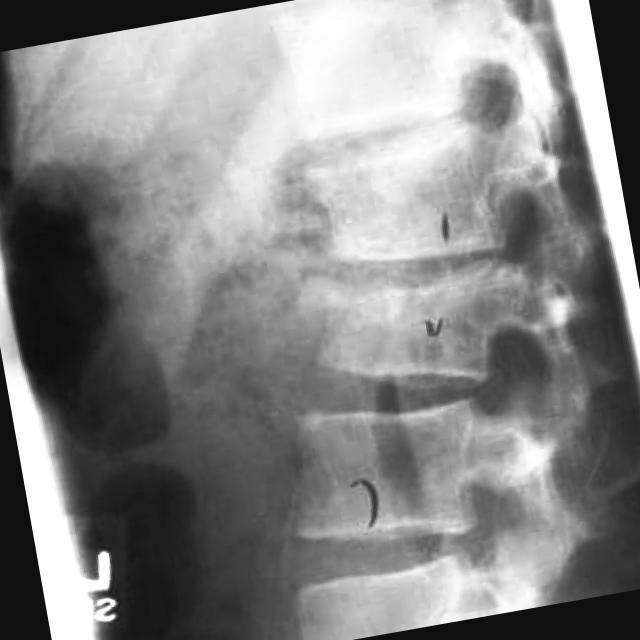Compression-Crush Fracutre: (291, 346, 492, 439)
